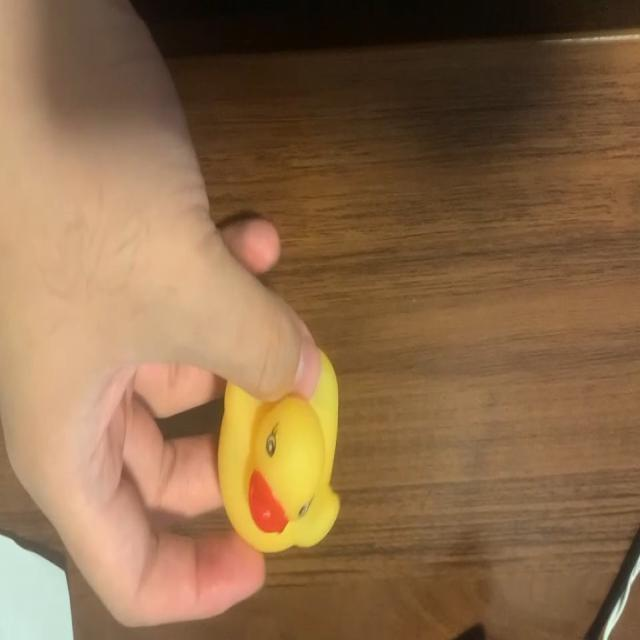rubber-duck: (217, 352, 337, 550)
